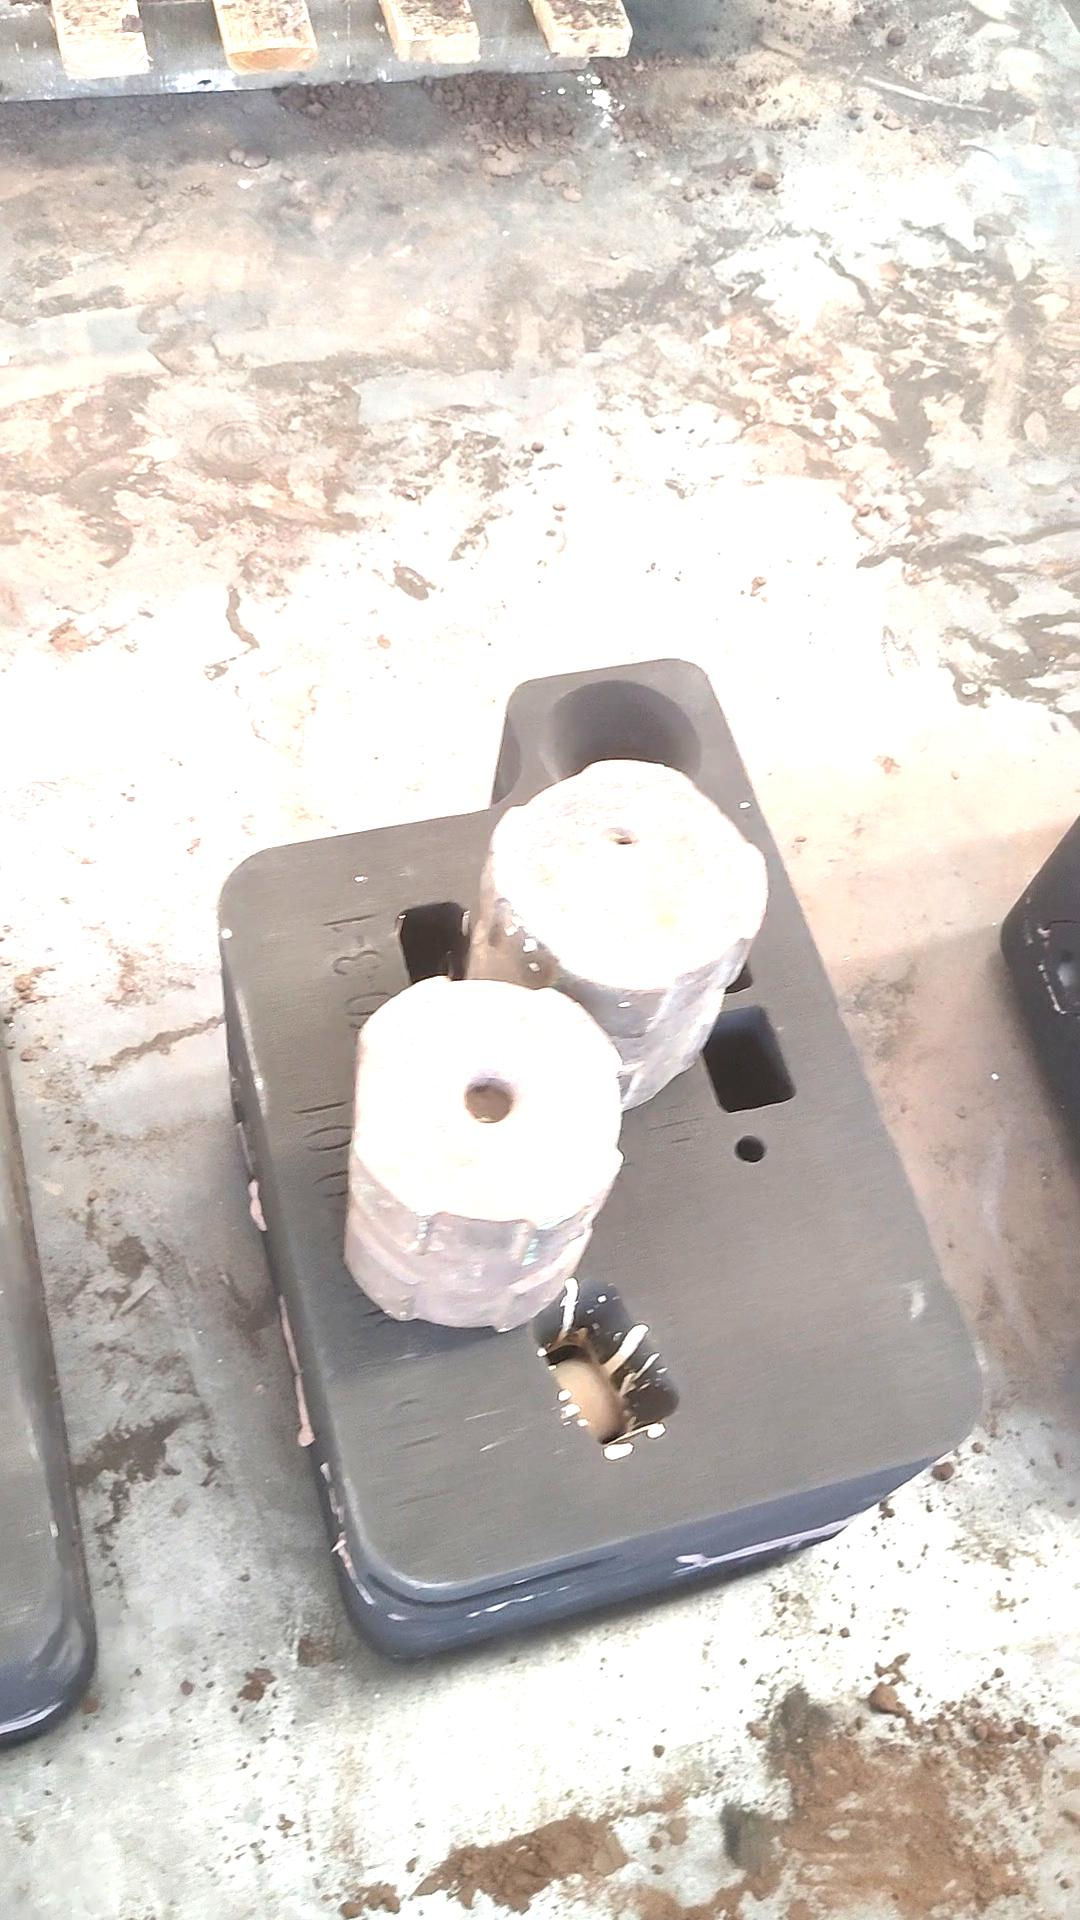pouring hole: (538, 676, 705, 799)
